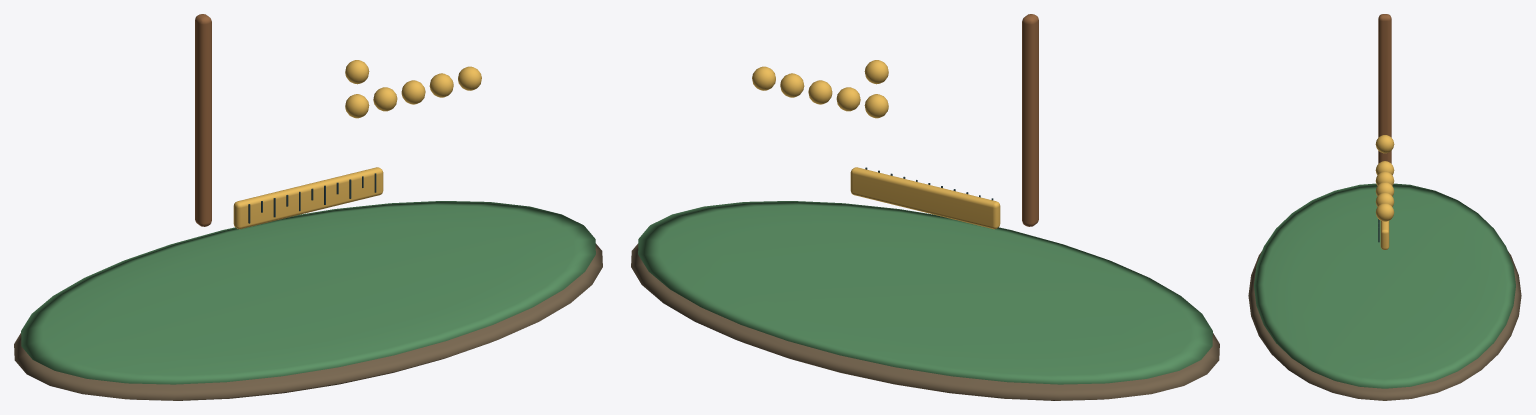
Rendered from complete-second-bamboo-tool-count.glb.
The picture shows the model from 3 angles, left to right: view 1: azimuth 30°, elevation 25°; view 2: azimuth 150°, elevation 25°; view 3: azimuth 270°, elevation 25°; orthographic projection. The views are drawn at different scales.
Visible parts, largest first — view 1: complete-second-bamboo-tool-count_surface_01, complete-second-bamboo-tool-count_surface_00, complete-second-bamboo-tool-count_surface_03, complete-second-bamboo-tool-count_surface_02; view 2: complete-second-bamboo-tool-count_surface_01, complete-second-bamboo-tool-count_surface_00, complete-second-bamboo-tool-count_surface_03, complete-second-bamboo-tool-count_surface_02; view 3: complete-second-bamboo-tool-count_surface_01, complete-second-bamboo-tool-count_surface_00, complete-second-bamboo-tool-count_surface_02, complete-second-bamboo-tool-count_surface_03.
Part boxes in pixels (x1,y1,x2,y2): complete-second-bamboo-tool-count_surface_01: (21, 201, 595, 384); complete-second-bamboo-tool-count_surface_00: (14, 243, 602, 400); complete-second-bamboo-tool-count_surface_03: (233, 60, 481, 229); complete-second-bamboo-tool-count_surface_02: (195, 14, 211, 226); complete-second-bamboo-tool-count_surface_01: (638, 201, 1212, 384); complete-second-bamboo-tool-count_surface_00: (631, 243, 1219, 400); complete-second-bamboo-tool-count_surface_03: (752, 60, 1000, 229); complete-second-bamboo-tool-count_surface_02: (1022, 14, 1038, 226); complete-second-bamboo-tool-count_surface_01: (1254, 183, 1515, 388); complete-second-bamboo-tool-count_surface_00: (1248, 251, 1521, 400); complete-second-bamboo-tool-count_surface_02: (1378, 14, 1391, 163); complete-second-bamboo-tool-count_surface_03: (1375, 135, 1394, 249).
Size of the model in its own units: 4.56 by 2.57 by 2.5.
